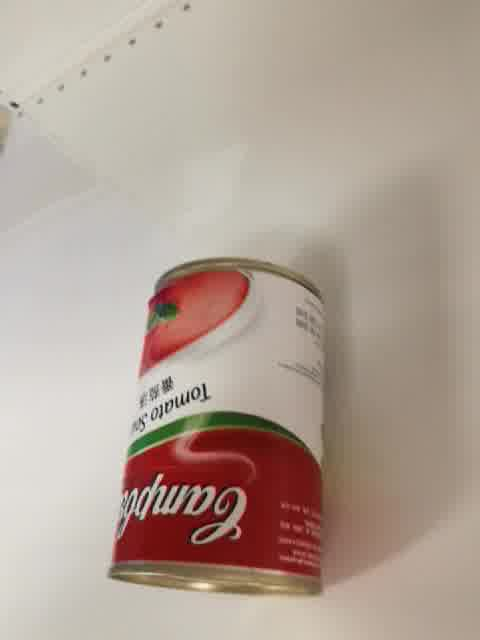tomatosoup: (105, 253, 325, 600)
